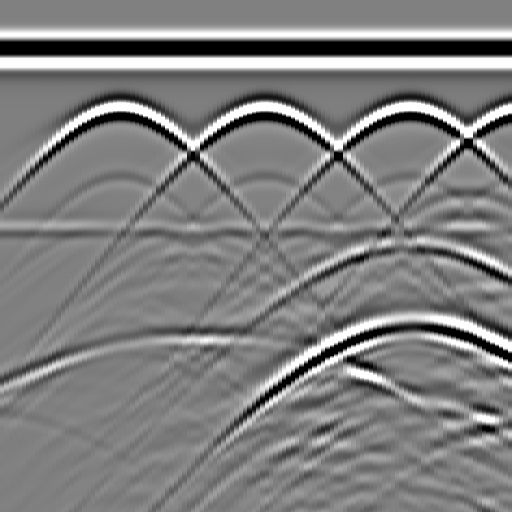grout_surface: (1, 216, 512, 246)
rebar: (98, 90, 138, 130), (243, 90, 283, 130), (387, 90, 427, 130), (502, 90, 512, 130)
rock_surface: (1, 337, 511, 415)
water_void: (380, 220, 440, 260)
